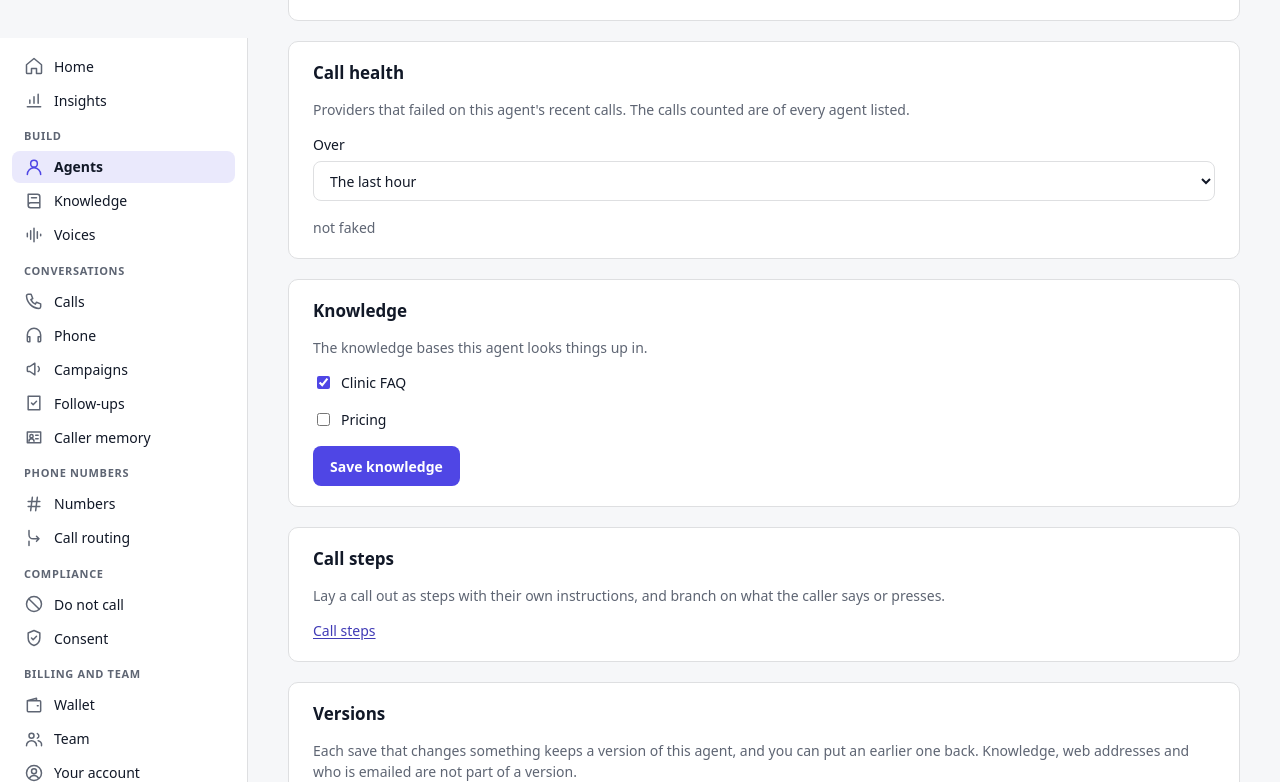
Test: an agent's knowledge › ticks the bases it answers from and saves the whole set
The image size is (1280, 782).
(page scrolled)
expect the checkbox named "Answers from Pricing" is not checked: met, box [317, 413, 330, 426]
Click the checkbox named "Answers from Clinic FAQ" at point(324, 383), box [317, 376, 330, 389]
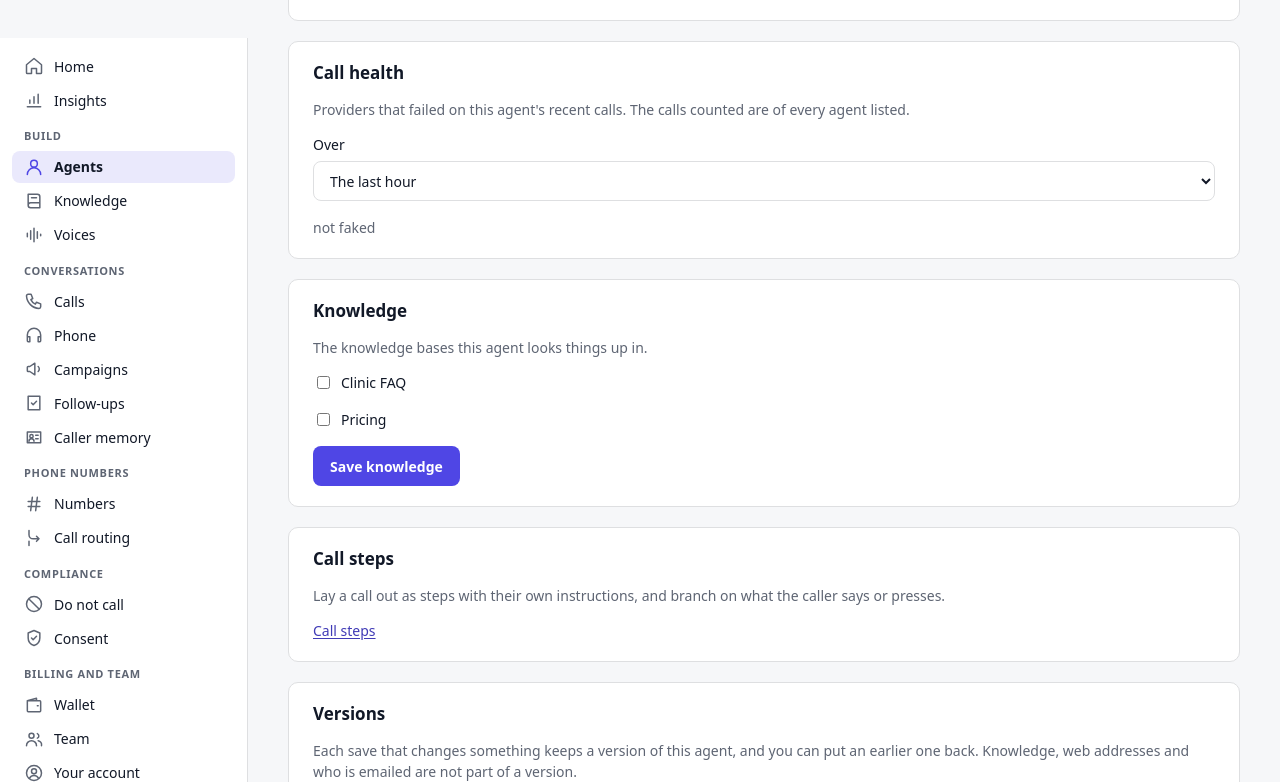
Click the checkbox named "Answers from Pricing" at point(324, 420), box [317, 413, 330, 426]
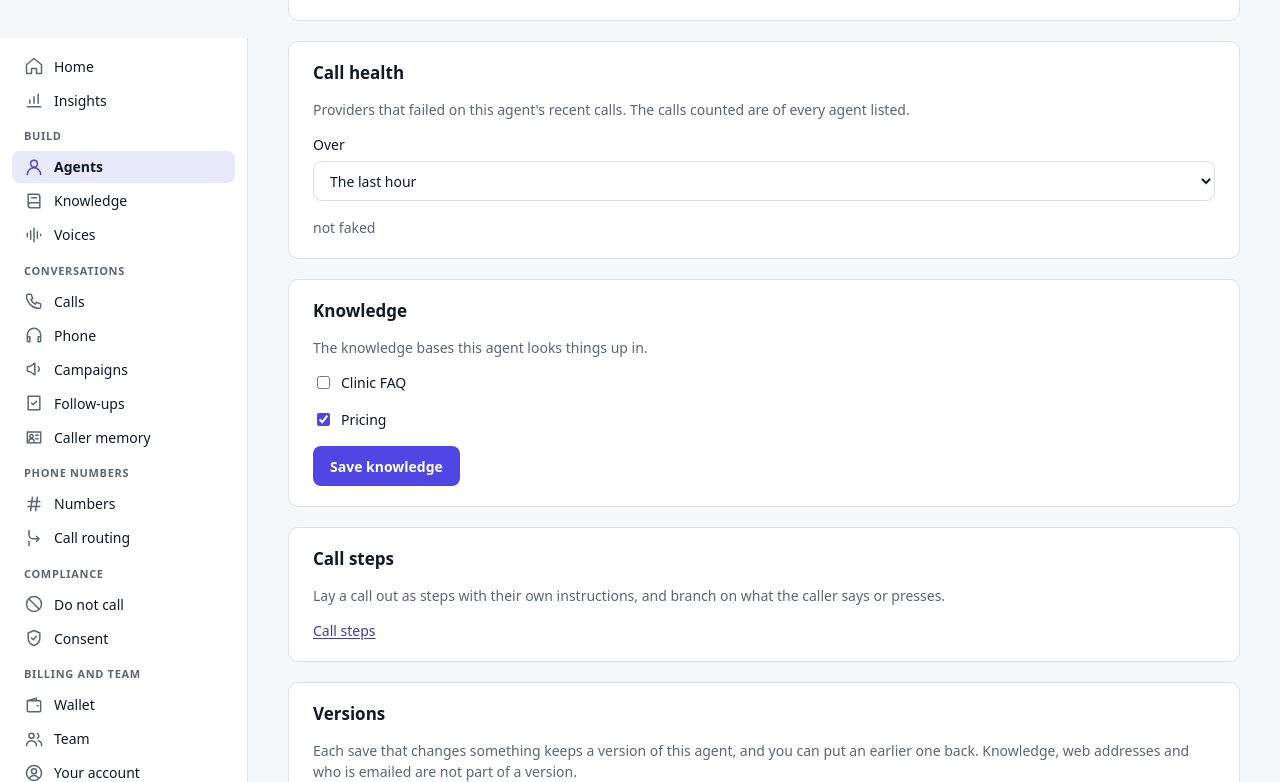
Click the button "Save knowledge" at point(386, 466), box [313, 446, 460, 486]
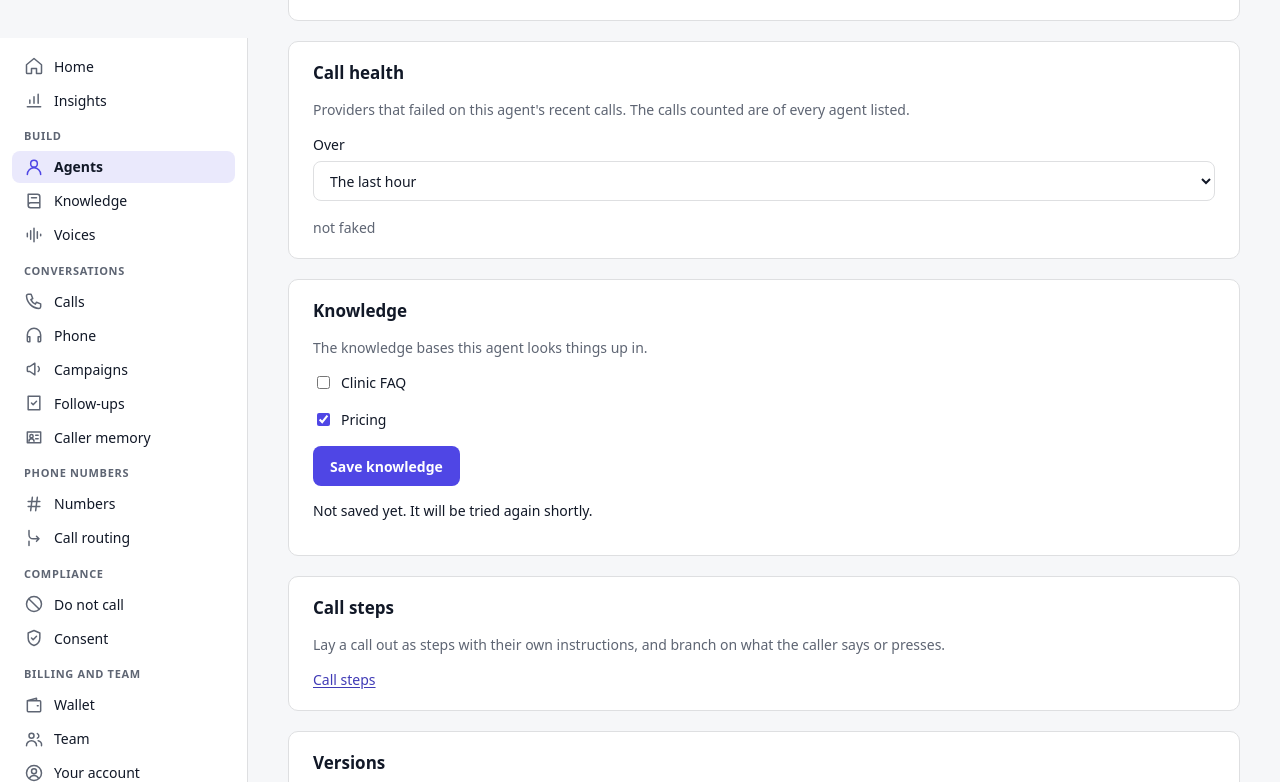
expect the message reads "Not saved yet. It will be tried again shortly.": met, box [313, 501, 593, 520]
